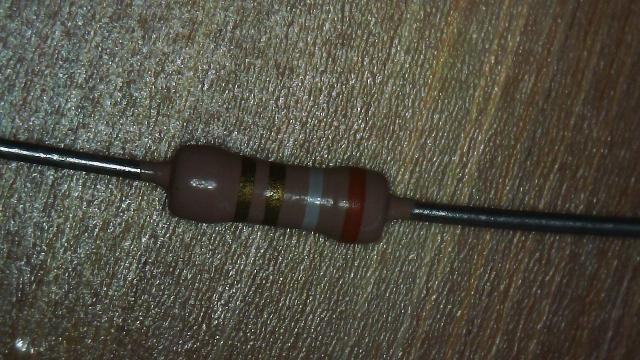gold: (262, 162, 284, 225), (234, 156, 255, 221)
orange: (338, 168, 366, 242)
resistor: (144, 116, 400, 270)
white: (300, 168, 324, 229)
